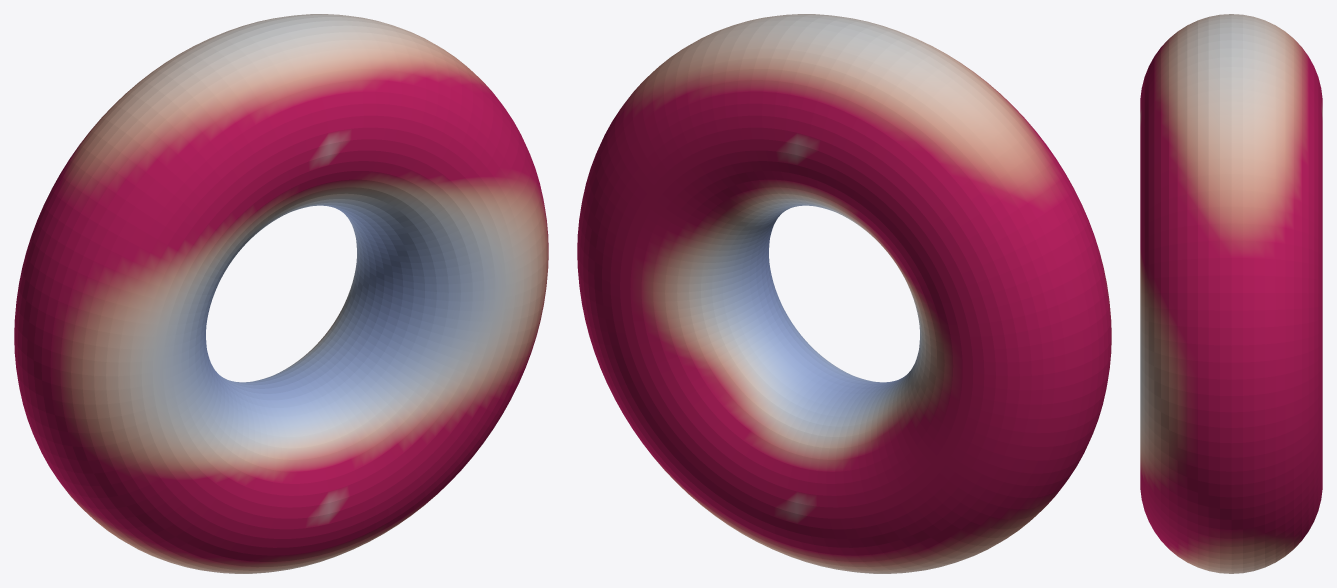
3 views of the same model, side by side, from view 1: azimuth 30°, elevation 25°; view 2: azimuth 150°, elevation 25°; view 3: azimuth 270°, elevation 25° (orthographic). The views are drawn at different scales.
Visible parts, largest first — view 1: world; view 2: world; view 3: world.
Boxes of the visible parts, x1,y1,x2,y2 form: world: [14, 14, 548, 573]; world: [577, 14, 1111, 573]; world: [1140, 14, 1322, 573].
Bounding box in the file's own units: 25.73 × 25.73 × 8.38.
